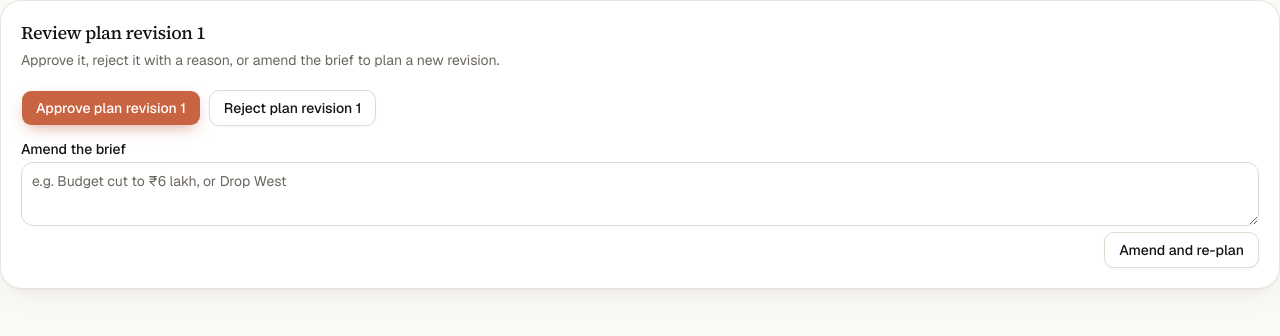
Test case: ReviewPanel › disables every action while one is being sent
Click the button "Approve plan revision 1": (111, 108) [21,90,201,126]
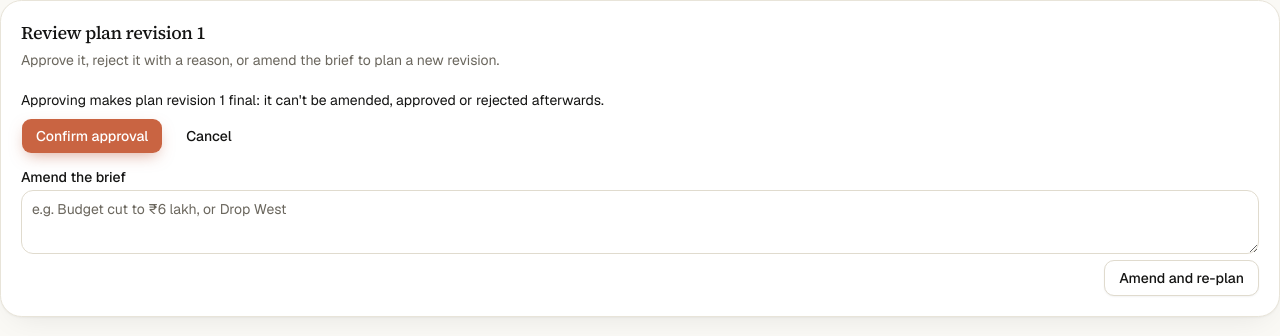
Click the button "Confirm approval": (92, 136) [21,118,163,154]
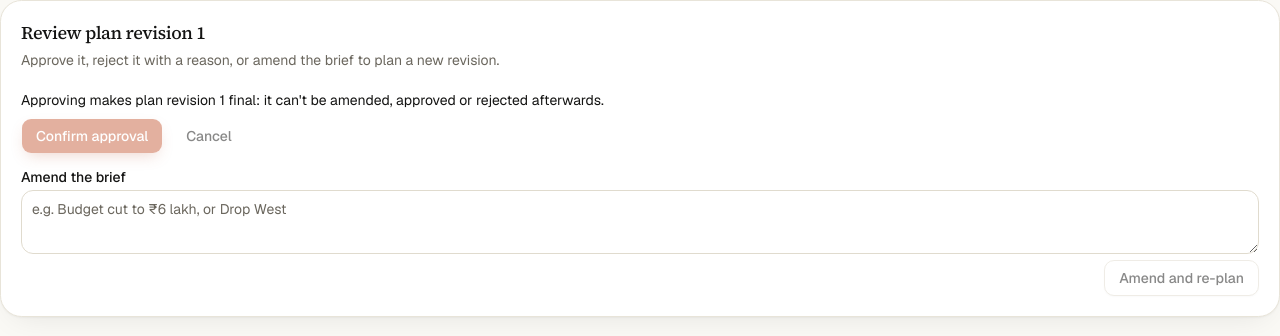
Expected: the button "Amend and re-plan" is disabled, [1104,260,1259,296]
Expected: the button "Confirm approval" is disabled, [21,118,163,154]
